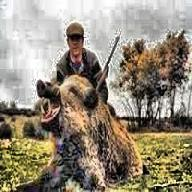boar: (10, 73, 146, 192)
